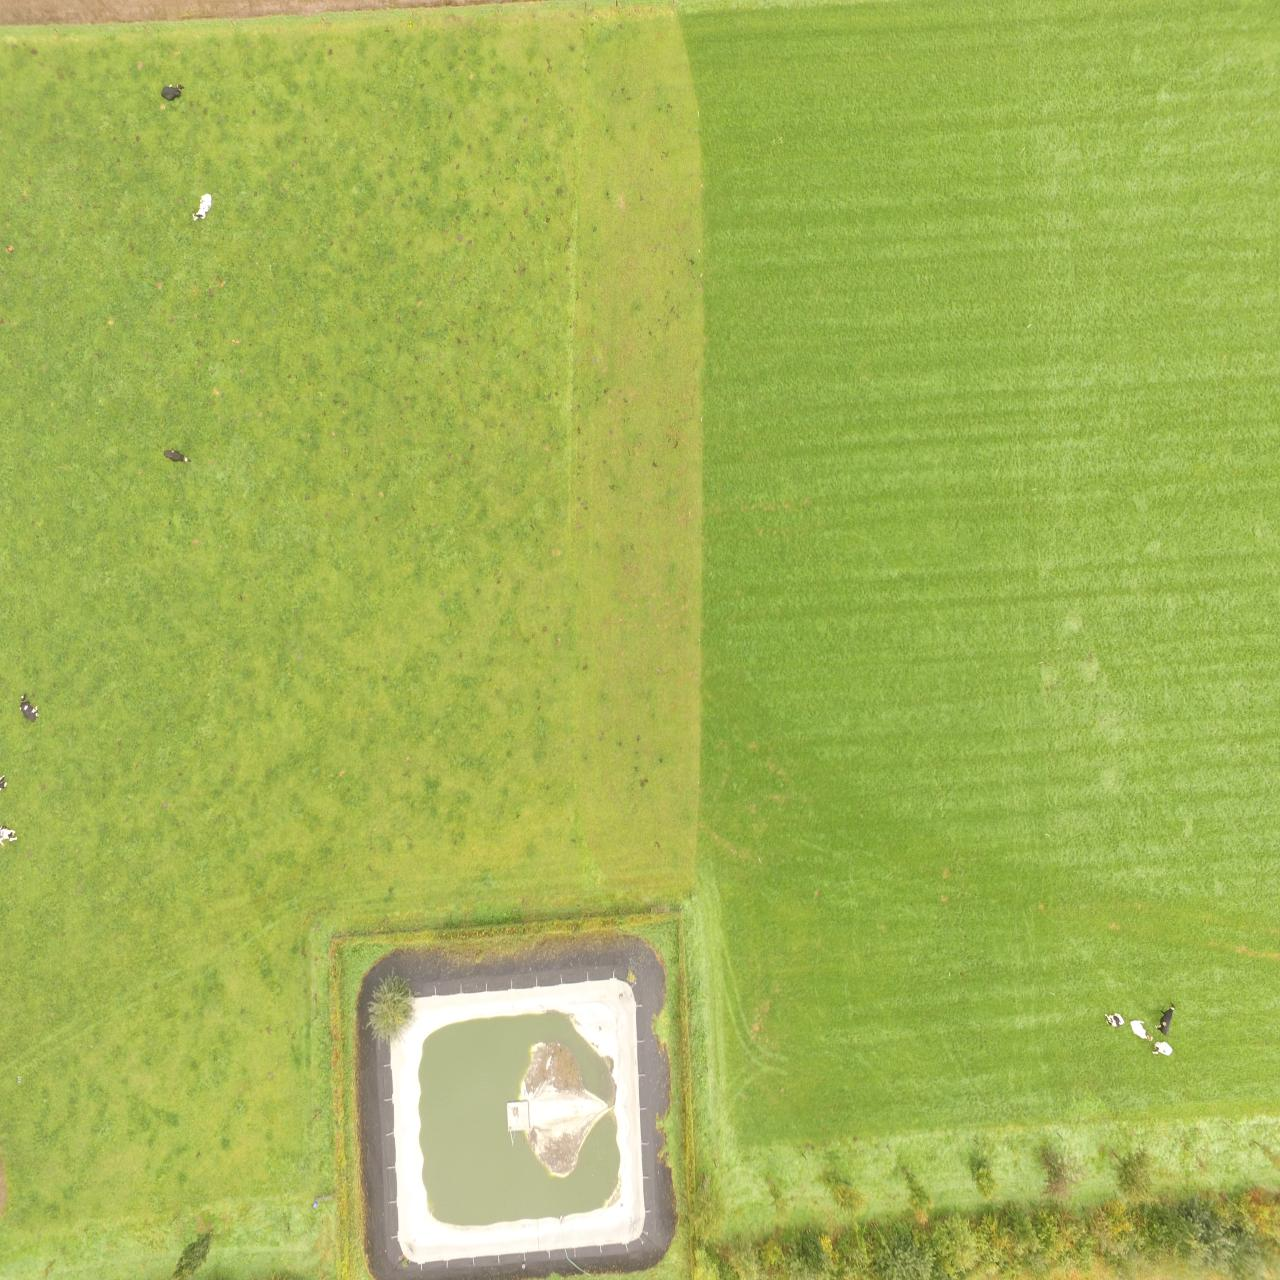cow: (15, 688, 45, 729), (191, 188, 219, 224), (155, 77, 189, 105), (159, 441, 192, 468), (1156, 1002, 1179, 1033), (1129, 1016, 1152, 1043), (0, 821, 21, 846), (1103, 1010, 1122, 1032), (1152, 1042, 1175, 1058)
